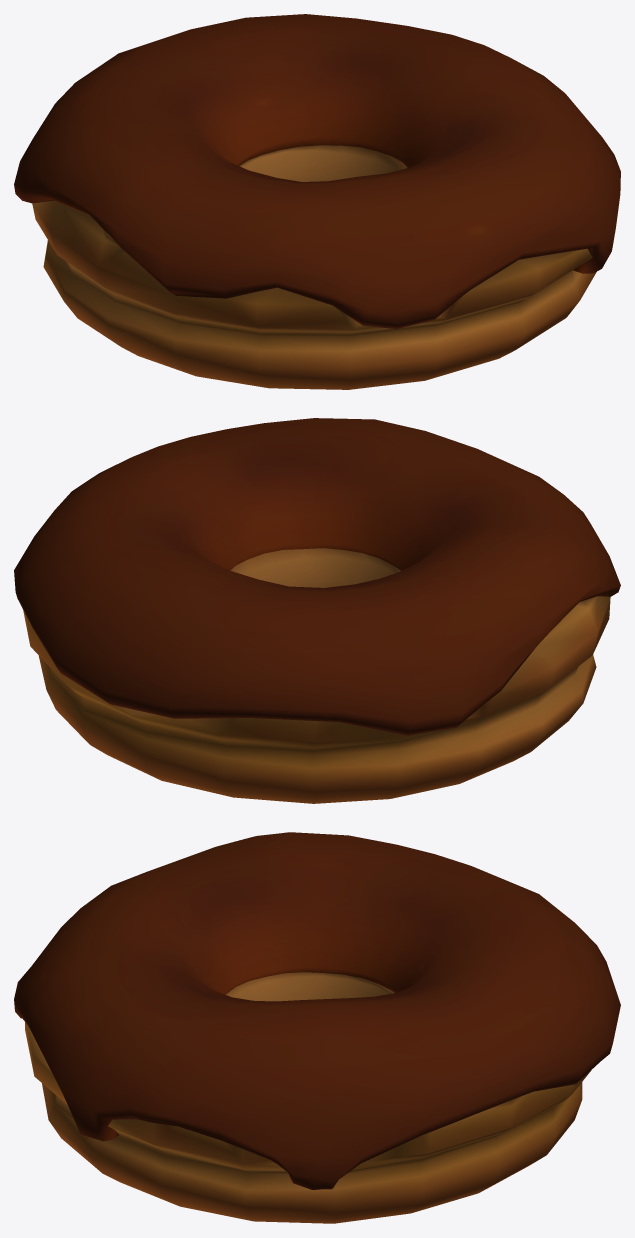
Rendered from Donut.FBX.
3 views of the same model, one above another, from view 1: azimuth 30°, elevation 25°; view 2: azimuth 150°, elevation 25°; view 3: azimuth 270°, elevation 25° (orthographic). The views are drawn at different scales.
Parts seen in each view (by area): view 1: Acc_Donut; view 2: Acc_Donut; view 3: Acc_Donut.
Boxes of the visible parts, x1,y1,x2,y2 form: Acc_Donut: [14, 14, 620, 389]; Acc_Donut: [14, 418, 620, 803]; Acc_Donut: [14, 832, 620, 1223].
Bounding box in the file's own units: 157 × 58 × 158.
